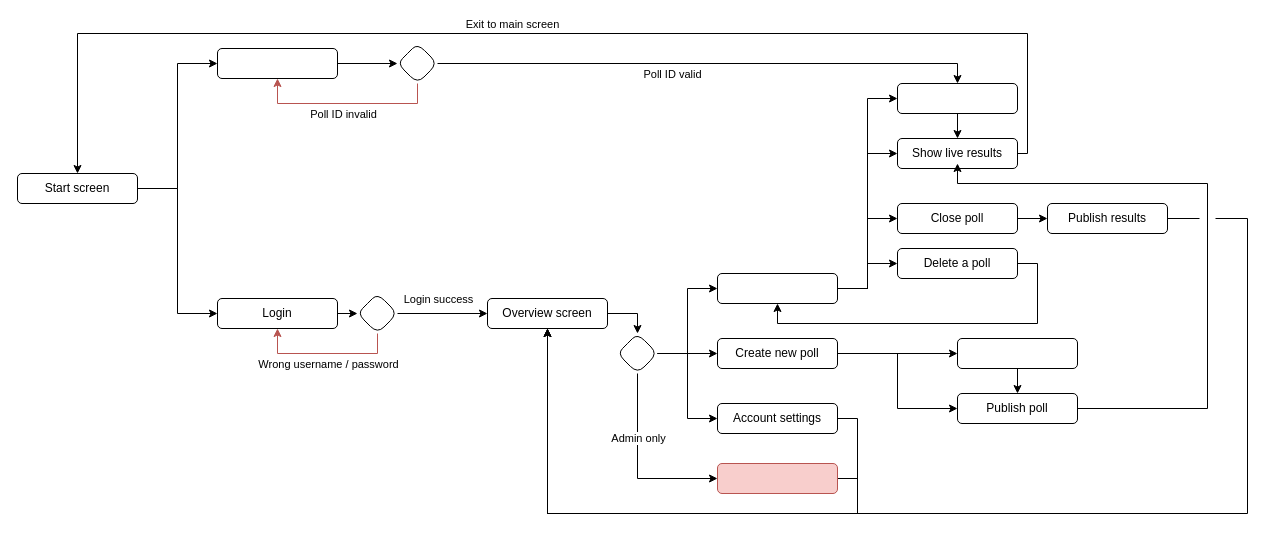
Some shapes in this 1273 by 539 pixel diagram are drawn without their labels. The box of each missing label's shape, as (x1, y1, x2, y2) in pixels:
Delete user: (716, 462, 838, 494)
Edit poll title/descr: (956, 338, 1078, 368)
Join poll: (216, 48, 338, 78)
Select poll: (716, 272, 838, 304)
Vote: (896, 82, 1018, 114)
